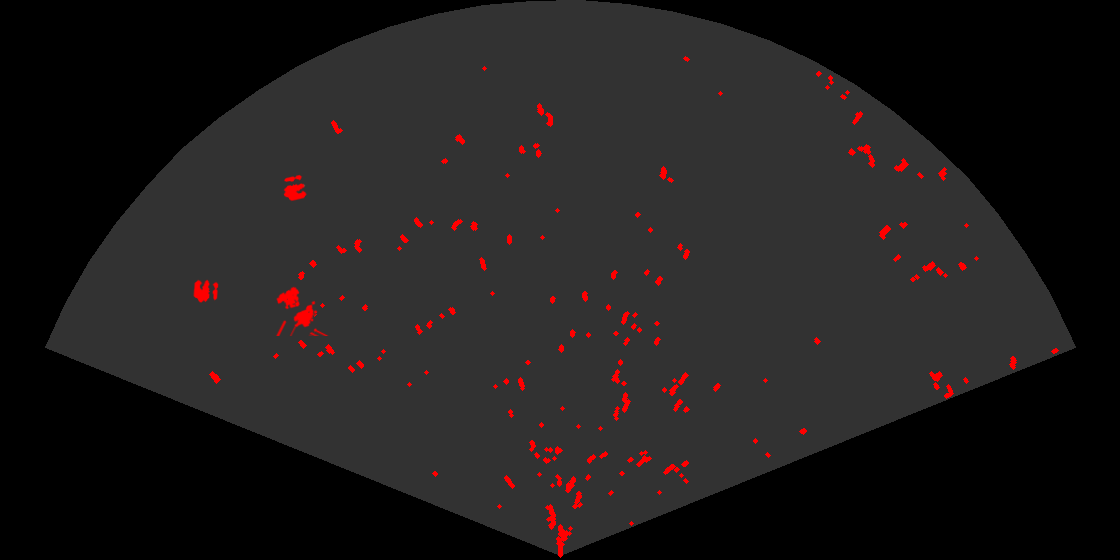ball: (282, 173, 309, 203), (192, 278, 220, 304)
cage: (274, 285, 330, 336)
